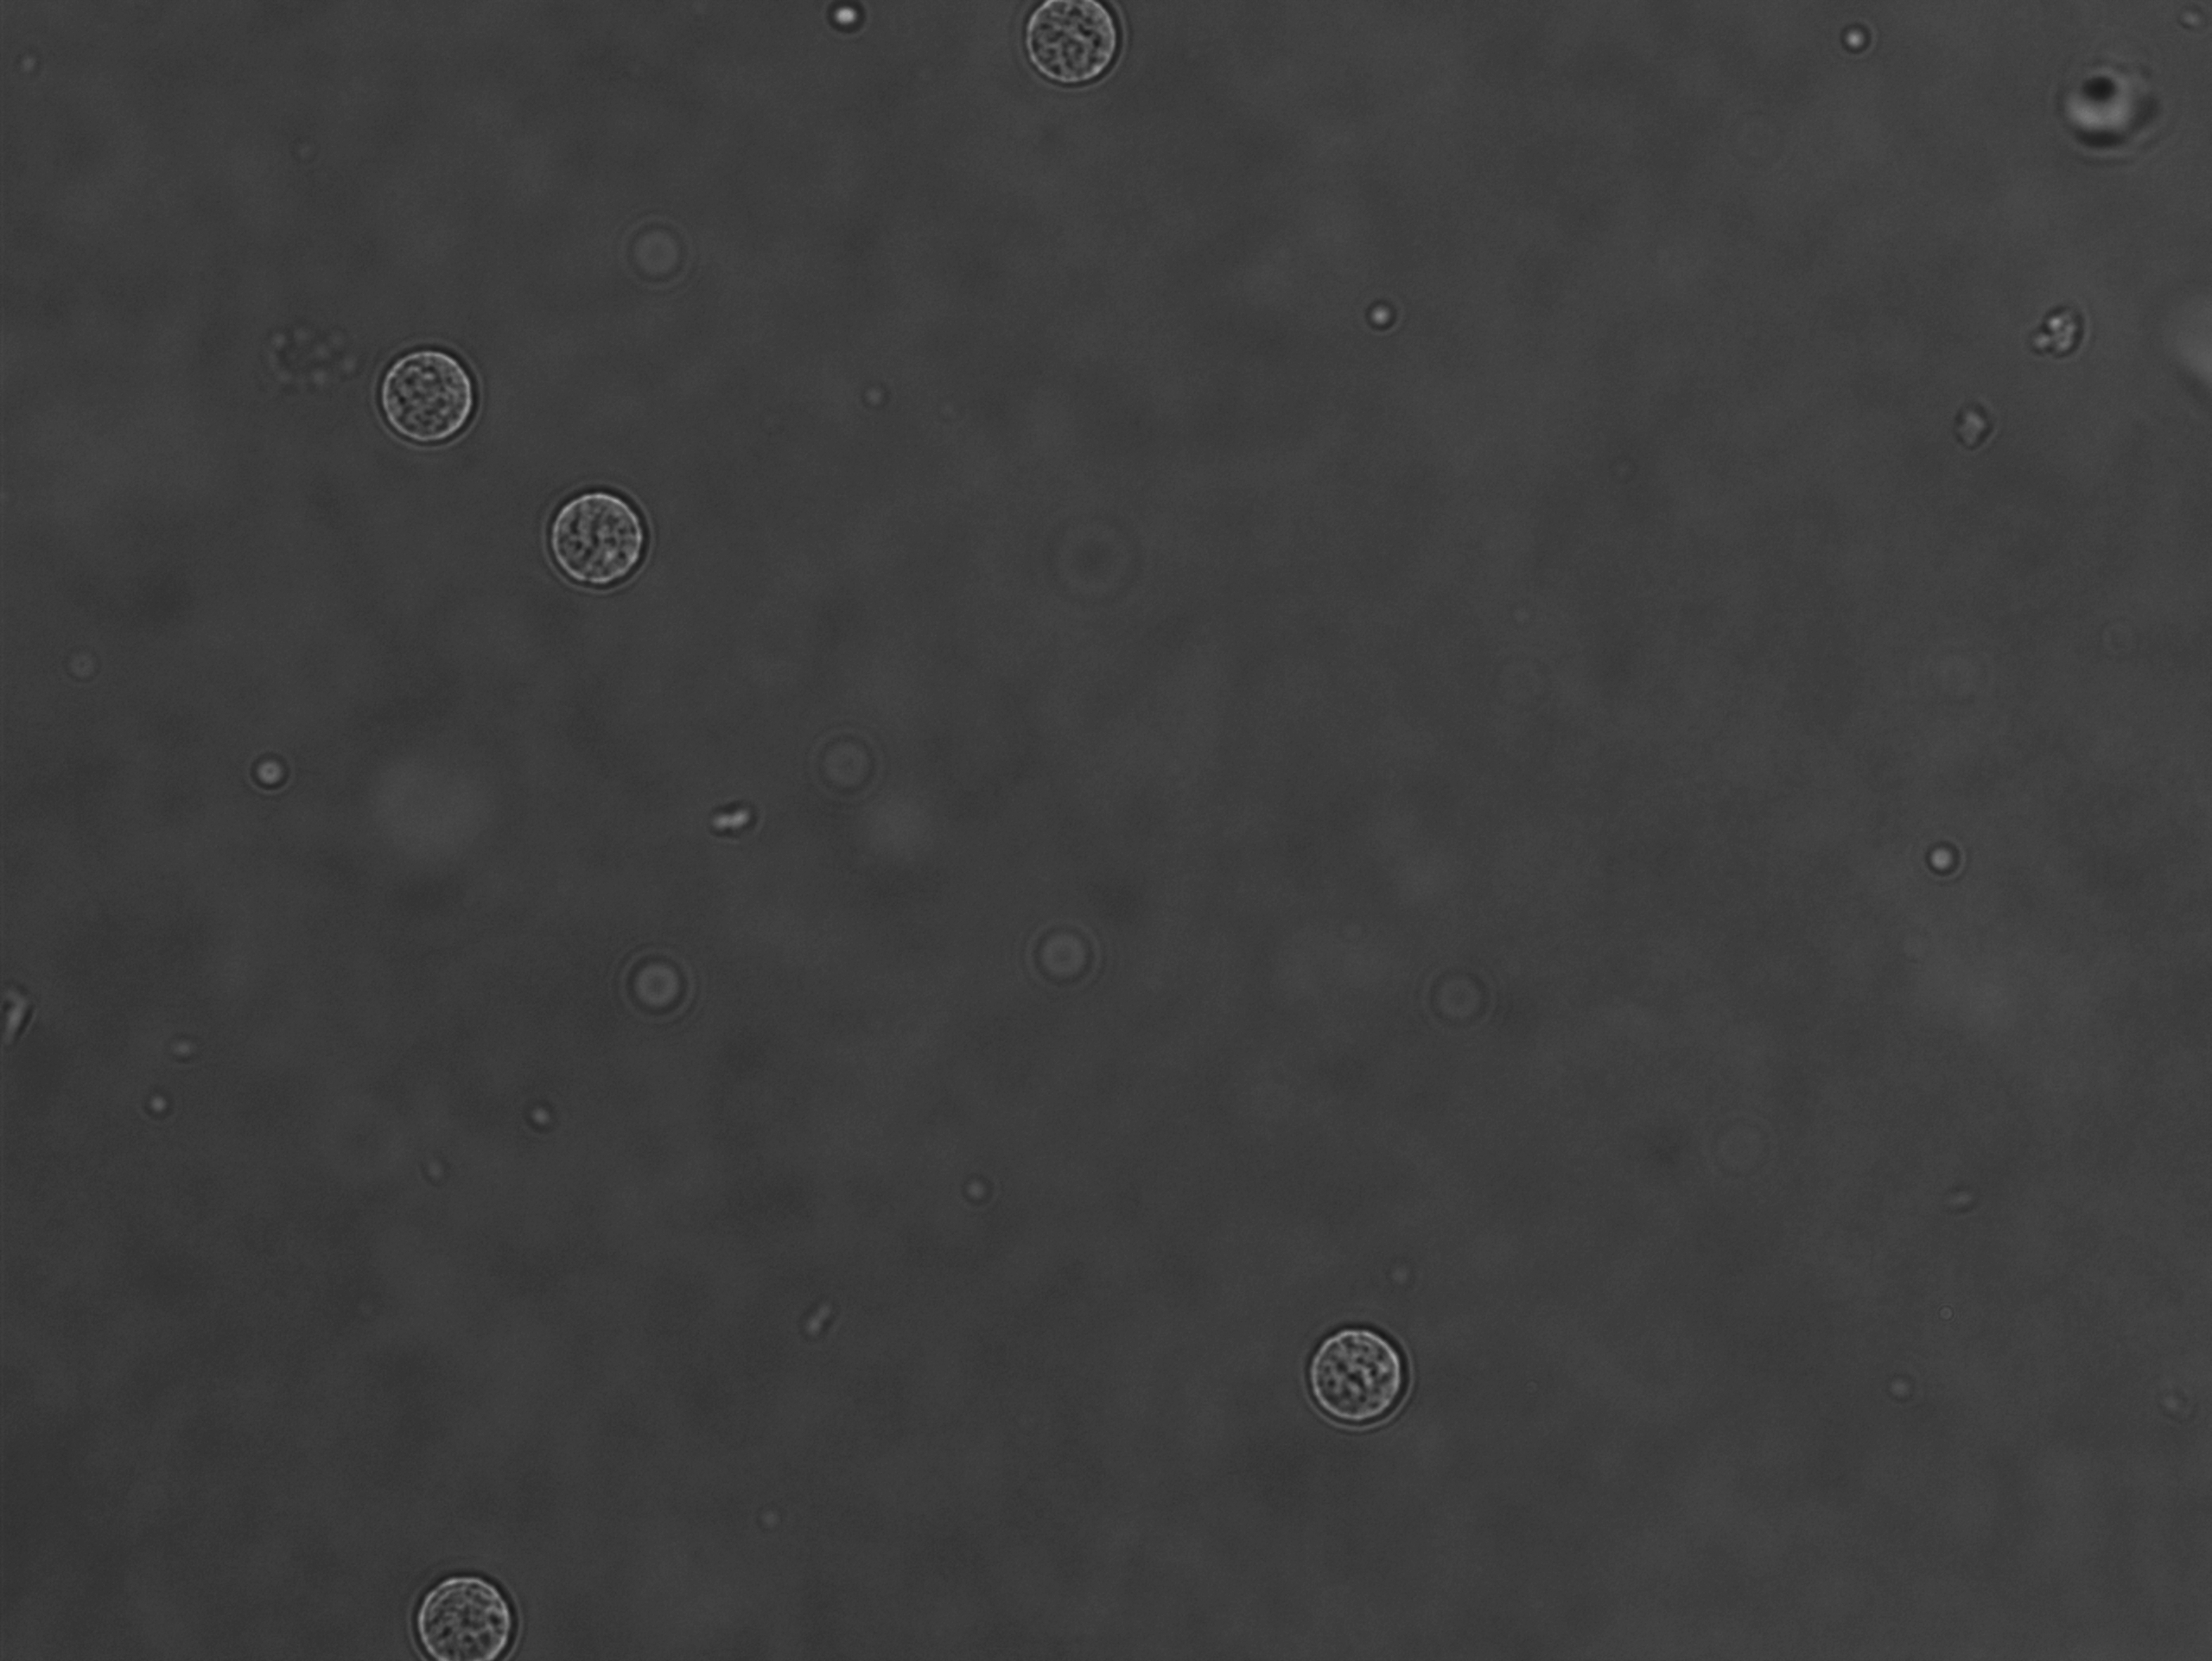depth:0: (344, 330, 497, 473), (529, 455, 670, 609), (1280, 1298, 1430, 1439), (389, 1553, 544, 1661), (1000, 3, 1137, 110)
